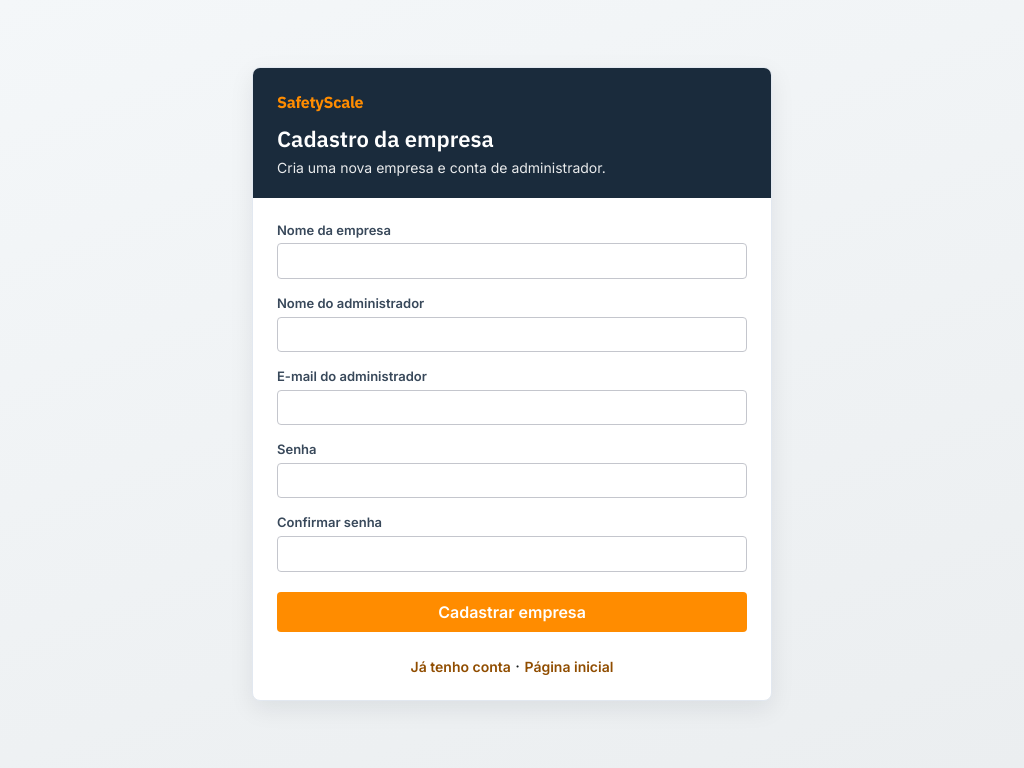
RegisterTenantPage › shows field validation when submitting empty form
Click the button "Cadastrar empresa" at (512, 612), box [277,592,747,632]
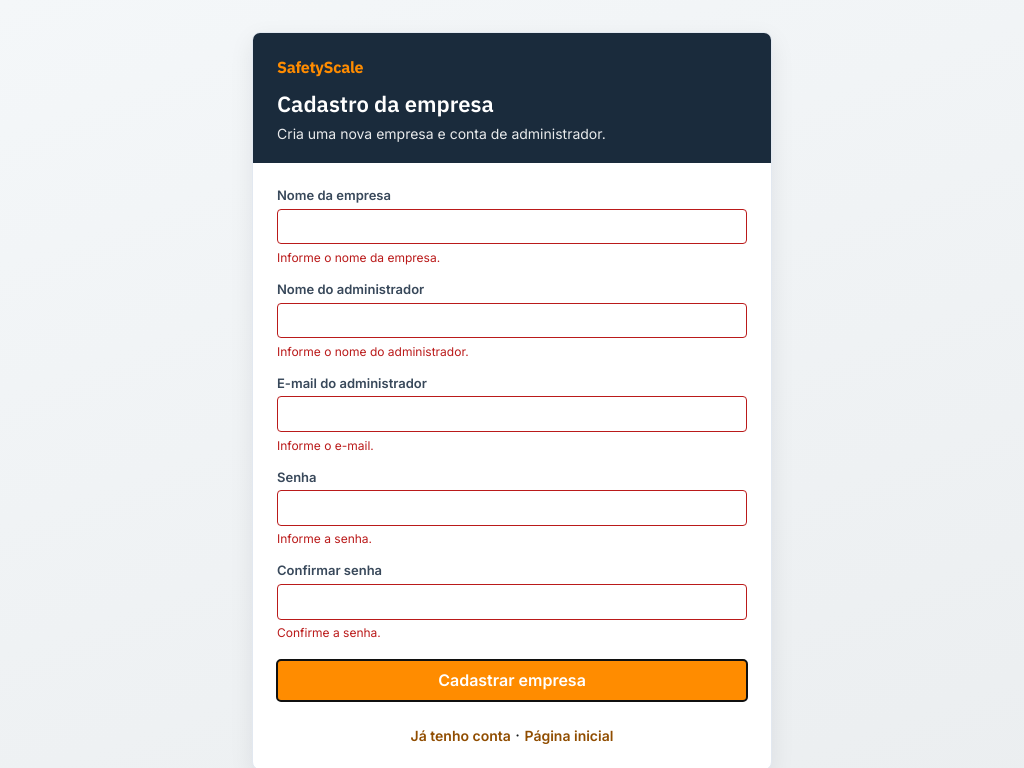
Check: the text "Informe o nome da empresa." is shown, box [277,250,440,265]
